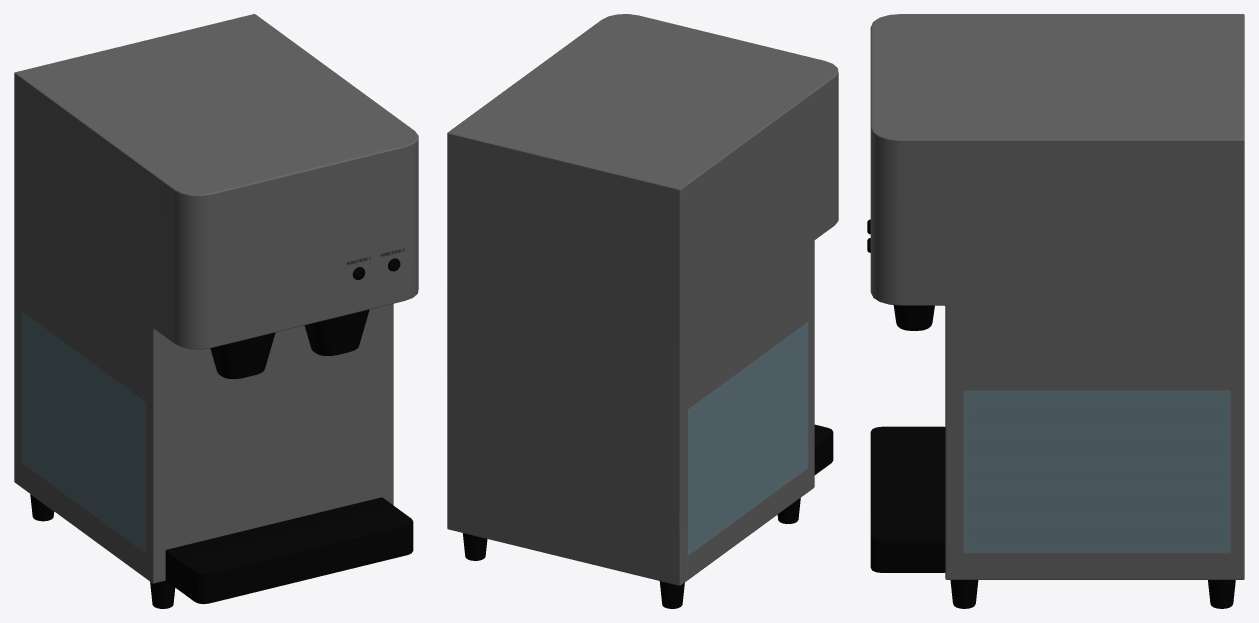
The model's file is electronic_02.001.fbx.
3 renders of one model, left to right at view 1: azimuth 30°, elevation 25°; view 2: azimuth 150°, elevation 25°; view 3: azimuth 270°, elevation 25°, orthographic. The views are drawn at different scales.
Parts seen in each view (by area): view 1: electronic_02.001; view 2: electronic_02.001; view 3: electronic_02.001.
Boxes of the visible parts, x1,y1,x2,y2 form: electronic_02.001: (14,14,418,608); electronic_02.001: (447,14,838,608); electronic_02.001: (867,14,1244,608).
Bounding box in the file's own units: 40 × 70 × 50.45.
Materials: 1 (1 with a texture image).
